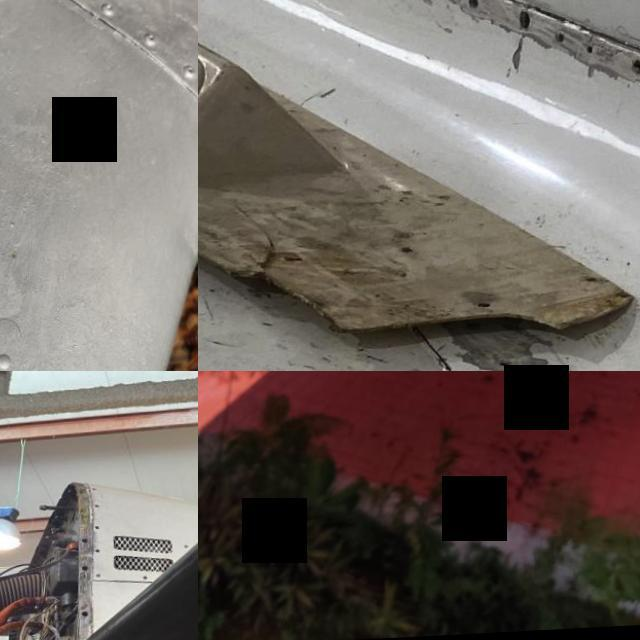Crack: (437, 0, 640, 60)
Missing_Fastener: (499, 361, 521, 371), (98, 550, 104, 555), (146, 577, 152, 582), (98, 526, 103, 531)
